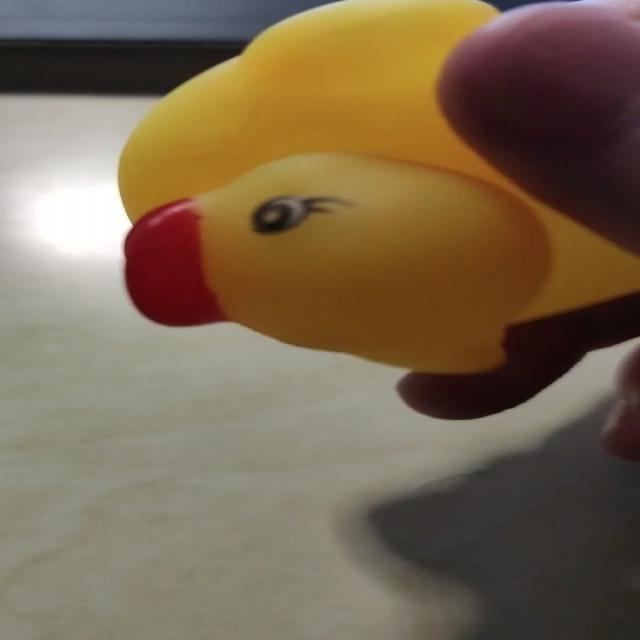rubber-duck: (118, 0, 638, 371)
